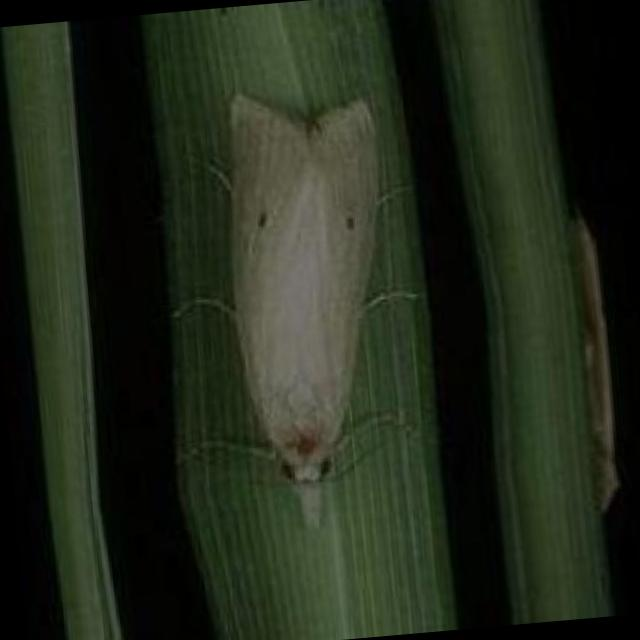stem-borer: (158, 76, 432, 542)
